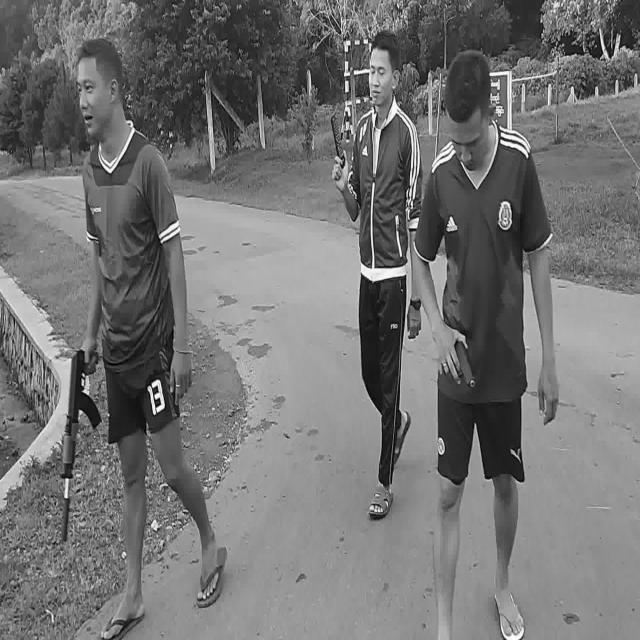gun: (62, 350, 102, 539), (442, 339, 475, 387)
